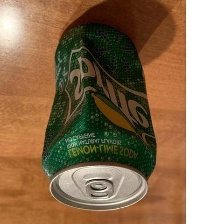can: (38, 20, 160, 213)
